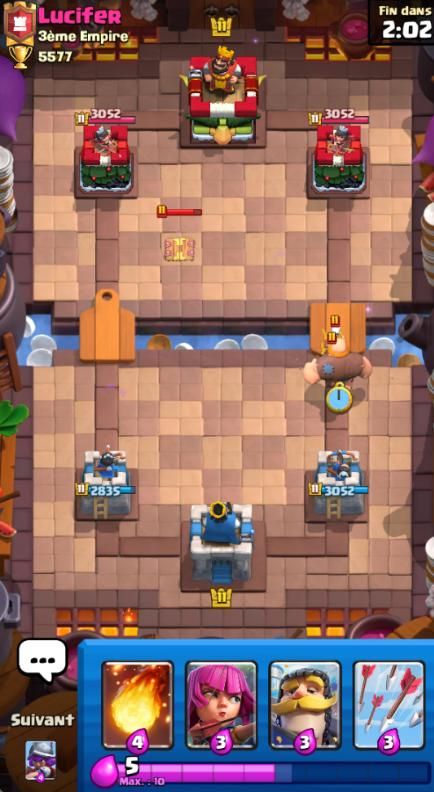geant: (304, 340, 373, 398)
